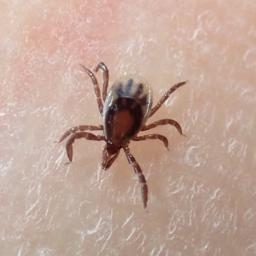Ixodes scapularis: (56, 63, 186, 208)
